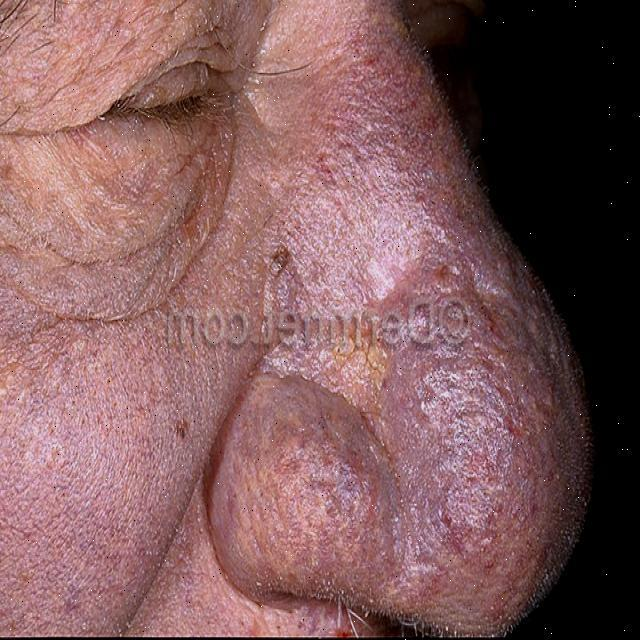images: (0, 0, 598, 639)
